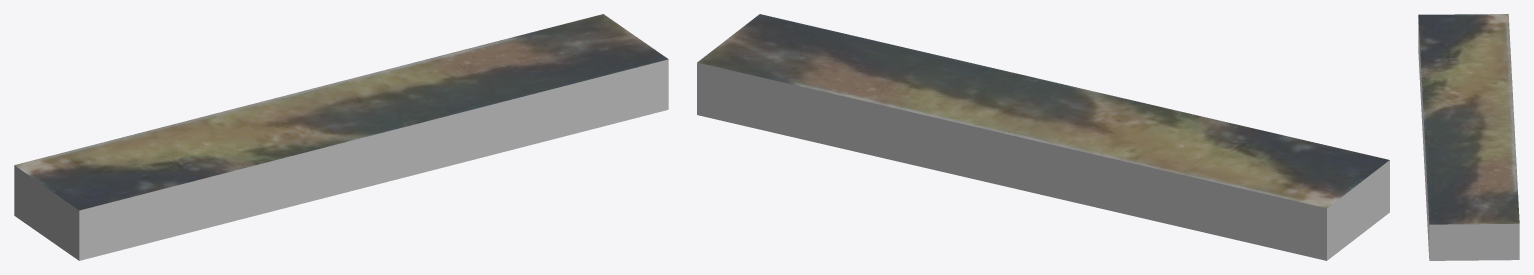
Rendered from DEBW_0010007Txi1.gltf.
The picture shows the model from 3 angles, left to right: view 1: azimuth 30°, elevation 25°; view 2: azimuth 150°, elevation 25°; view 3: azimuth 270°, elevation 25°; orthographic projection. The views are drawn at different scales.
Visible parts, largest first — view 1: Z_UP; view 2: Z_UP; view 3: Z_UP.
Boxes of the visible parts, bbox=[...] form: Z_UP: bbox=[14, 14, 668, 260]; Z_UP: bbox=[697, 14, 1389, 260]; Z_UP: bbox=[1418, 14, 1519, 260].
Bounding box in the file's own units: 50.52 × 4.06 × 10.27.
2 materials, 1 textured.
